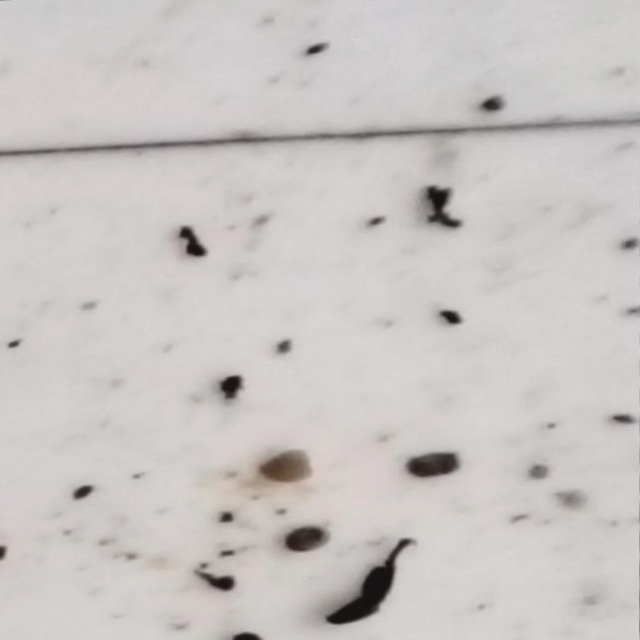varroa: (406, 445, 467, 480), (278, 522, 335, 552)
